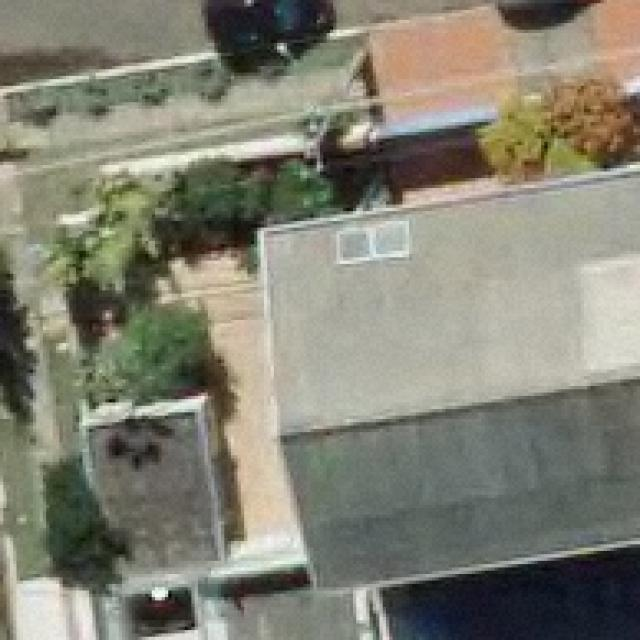trees: (156, 159, 337, 260), (93, 308, 229, 407), (1, 248, 17, 307)
